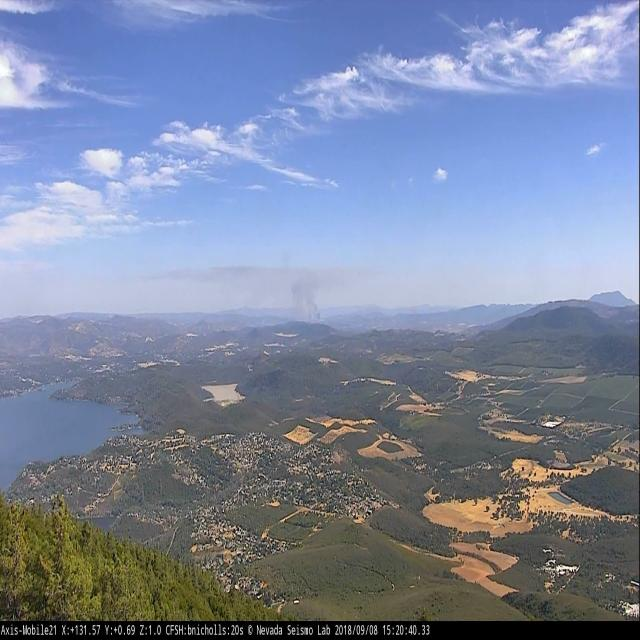smoke: (291, 278, 324, 322)
